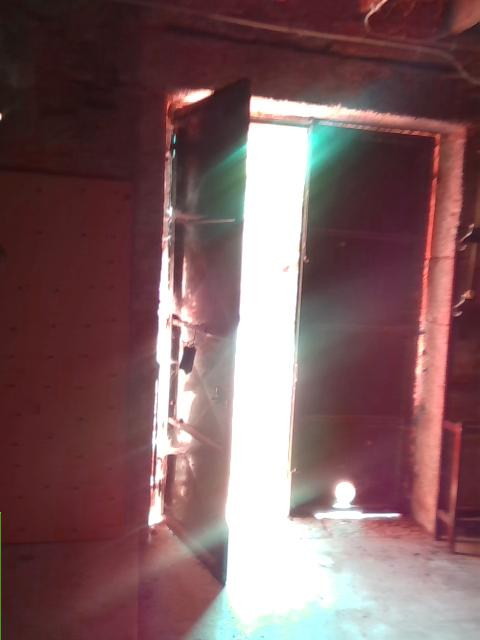semi_door: (139, 73, 441, 589)
